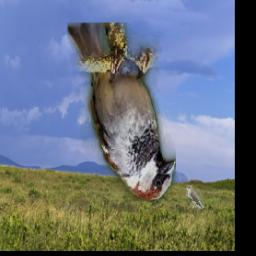Cuckoo: (187, 185, 204, 209)
Sparrow: (67, 23, 176, 201)
